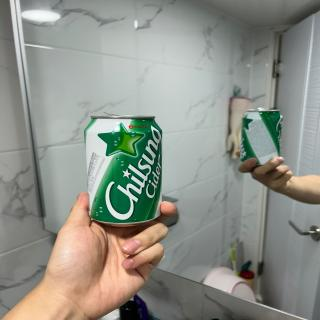cocacola: (83, 112, 165, 225)
